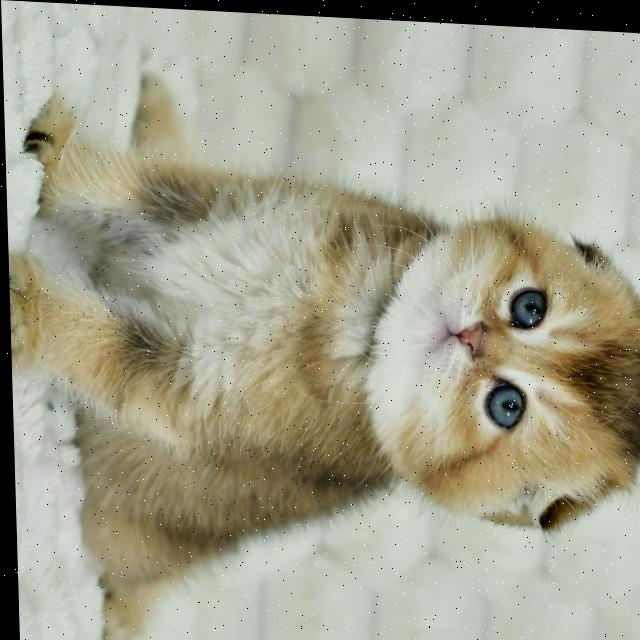Scottish Fold: (1, 61, 640, 640)
